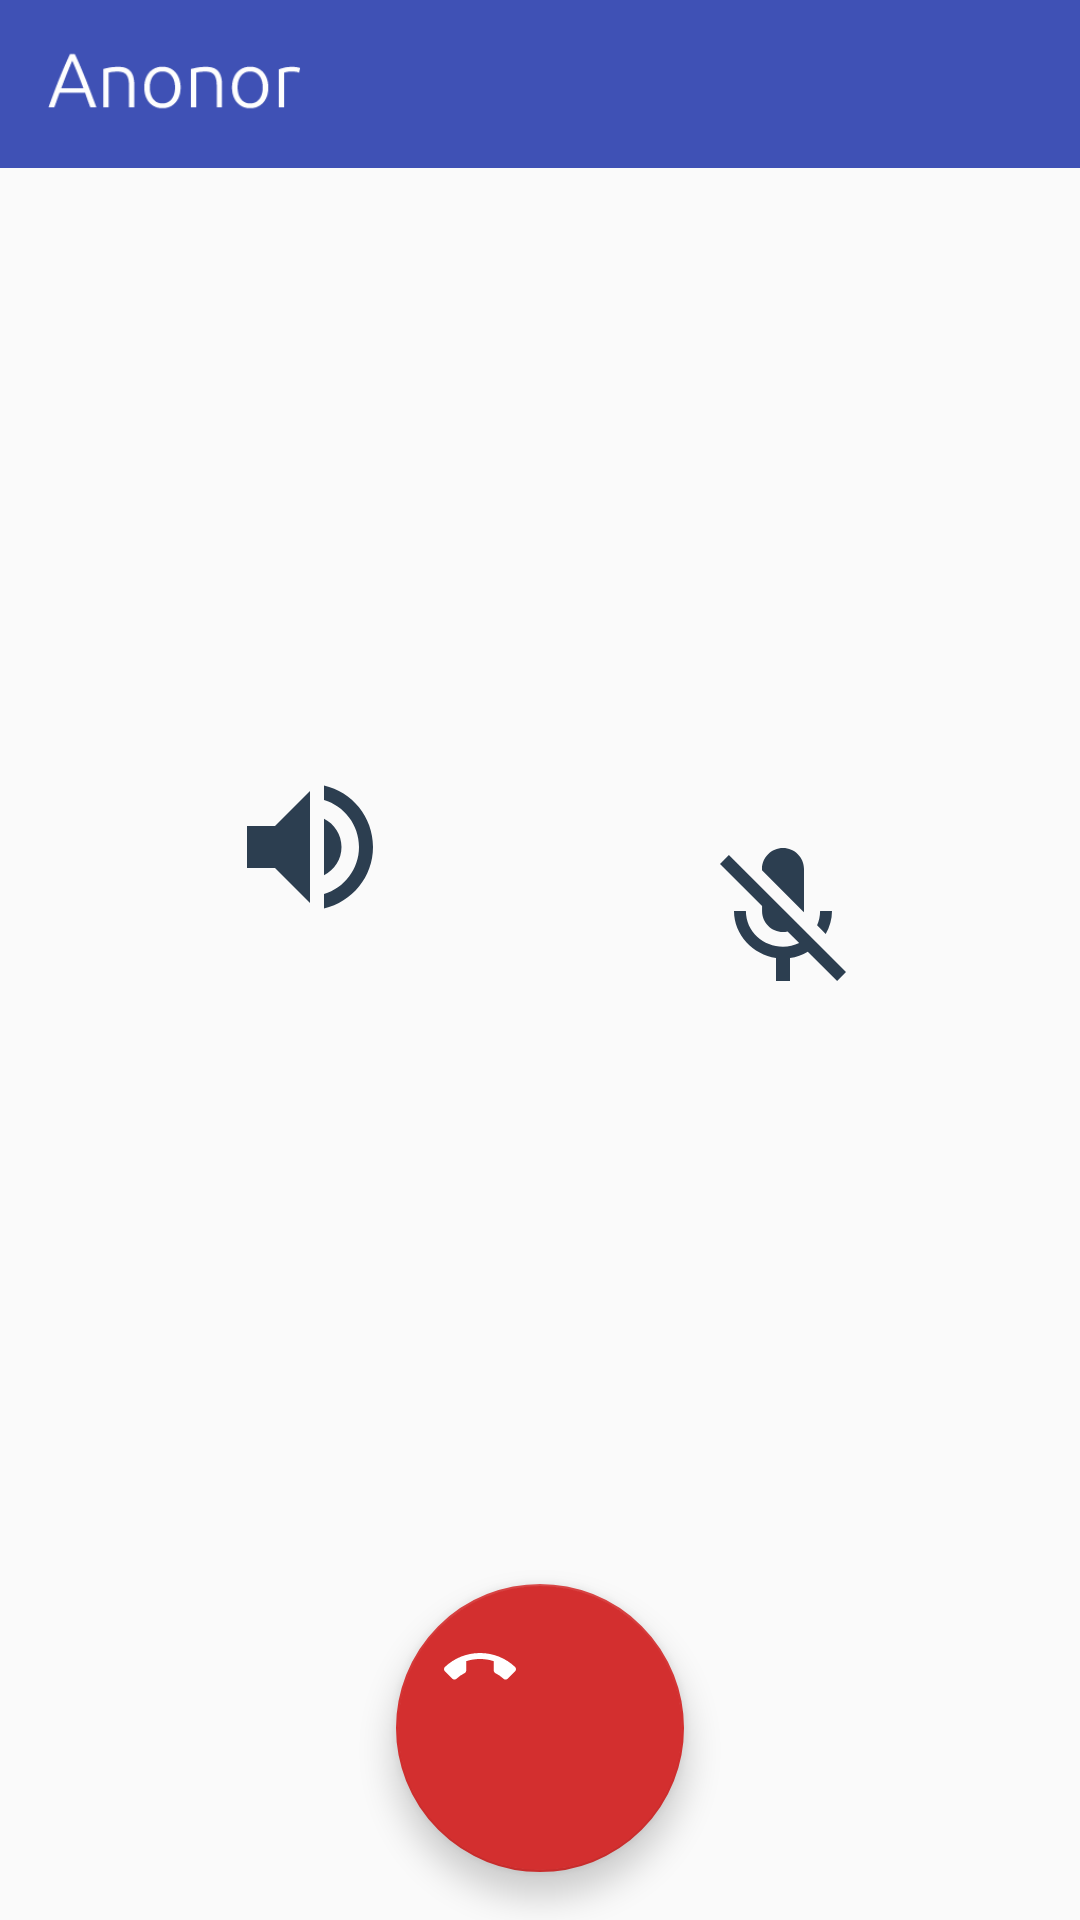

Locate icon controls on the screen. Image size 1080px×1920px, boxes as [x1=x1, y1=y1, x2=x2, y2=y2].
end call: [x1=396, y1=1584, x2=684, y2=1872]
mic off: [x1=720, y1=848, x2=846, y2=981]
speakerphone: [x1=247, y1=785, x2=373, y2=909]
